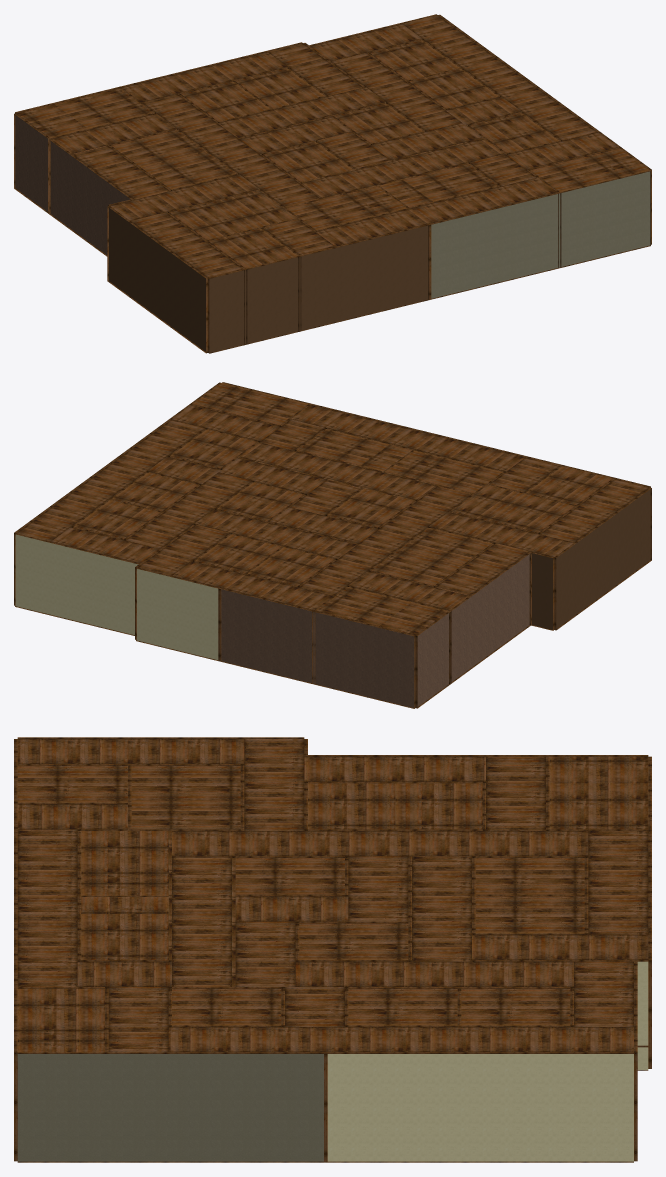
File: Map.fbx
3 views of the same model, one above another, from view 1: azimuth 30°, elevation 25°; view 2: azimuth 150°, elevation 25°; view 3: azimuth 270°, elevation 25° (orthographic). The views are drawn at different scales.
Visible parts, largest first — view 1: Map_Ceiling, Map_Sec3_Wall_016, Map_Sec4_Wall_015, Map_Sec3_Wall_001, Map_Sec2_Wall_009, piller, Map_Floor; view 2: Map_Ceiling, Map_Sec2_Wall_014, Map_Sec1_Wall_007, Map_Sec2_Wall_009, Map_Sec3_Wall_001, Map_Sec1_Wall_025, piller, Map_Sec3_Wall_017, Map_Floor; view 3: Map_Ceiling, Map_Sec1_Wall_014, Map_Sec4_Wall_016, piller, Map_Sec1_Wall_003, Map_Floor.
Boxes of the visible parts, box(x1,y1,x2,y2) form: Map_Ceiling: box(14, 14, 651, 278); Map_Sec3_Wall_016: box(209, 225, 428, 352); Map_Sec4_Wall_015: box(431, 171, 650, 298); Map_Sec3_Wall_001: box(109, 208, 205, 351); Map_Sec2_Wall_009: box(15, 115, 130, 254); piller: box(14, 39, 651, 353); Map_Floor: box(14, 188, 650, 353); Map_Ceiling: box(14, 382, 651, 636); Map_Sec2_Wall_014: box(221, 589, 414, 707); Map_Sec1_Wall_007: box(15, 534, 138, 635); Map_Sec2_Wall_009: box(417, 554, 529, 706); Map_Sec3_Wall_001: box(556, 489, 650, 628); Map_Sec1_Wall_025: box(137, 569, 218, 659); piller: box(14, 425, 651, 708); Map_Sec3_Wall_017: box(532, 553, 552, 629); Map_Floor: box(15, 560, 651, 708); Map_Ceiling: box(14, 737, 651, 1053); Map_Sec1_Wall_014: box(327, 1054, 633, 1161); Map_Sec4_Wall_016: box(17, 1054, 323, 1161); piller: box(14, 764, 651, 1162); Map_Sec1_Wall_003: box(637, 961, 648, 1069); Map_Floor: box(17, 1070, 648, 1162).
Size of what is drawn, in the model's own units: 6242 by 1003 by 5318.
